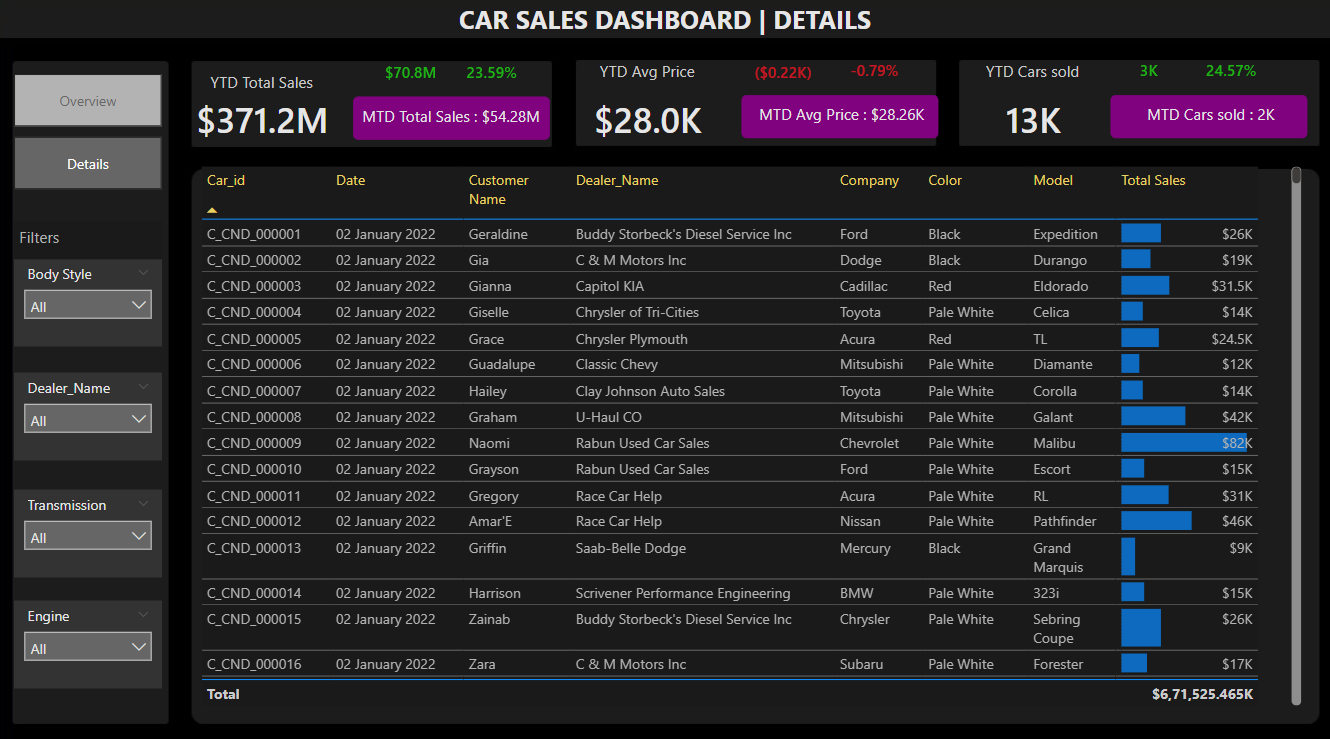

The dashboard page shown, as its layout file describes it:
{"tool":"powerbi","page":{"name":"Details","canvas":[1280,720],"ordinal":1},"visuals":[{"type":"card","title":"YTD Total Sales","fields":{"Values":["Measure Table.YTD Total Sales"]},"box":[179.7,71.6,149.5,73.2],"z":0},{"type":"card","fields":{"Values":["Measure Table.Sales Difference"]},"box":[340.4,52.5,109.8,42.9],"z":1000},{"type":"card","fields":{"Values":["Measure Table.YOY Sales Growth"]},"box":[418.3,52.5,109.8,42.9],"z":2000},{"type":"card","fields":{"Values":["Measure Table.MTD KPI"]},"box":[340.4,95.4,187.7,41.4],"z":3000},{"type":"card","title":"YTD Avg Price","fields":{"Values":["Measure Table.YTD Avg Price"]},"box":[547.2,62,149.5,92.3],"z":4000},{"type":"card","fields":{"Values":["Measure Table.Avg Price Diff"]},"box":[696.7,52.5,109.8,42.9],"z":5000},{"type":"card","fields":{"Values":["Measure Table.YOY Avg Price Growth"]},"box":[784.2,50.9,109.8,42.9],"z":6000},{"type":"card","fields":{"Values":["Measure Table.MTD Avg Price KPI"]},"box":[712.6,93.8,187.7,41.4],"z":7000},{"type":"card","title":"YTD Cars sold","fields":{"Values":["Measure Table.YTD Cars sold"]},"box":[914.6,62,149.5,92.3],"z":8000},{"type":"card","fields":{"Values":["Measure Table.Cars sold Diff"]},"box":[1045,50.9,109.8,42.9],"z":9000},{"type":"card","fields":{"Values":["Measure Table.YOY Cars sold Growth"]},"box":[1124.6,50.9,109.8,42.9],"z":10000},{"type":"card","fields":{"Values":["Measure Table.MTD Cars sold KPI"]},"box":[1064.1,93.8,187.7,41.4],"z":11000},{"type":"textbox","box":[408.8,0,461.3,50.9],"z":12000},{"type":"slicer","fields":{"Values":["car_data.Body Style"]},"box":[17.5,251.3,141.6,84.3],"z":13000},{"type":"slicer","fields":{"Values":["car_data.Dealer_Name"]},"box":[17.5,359.5,141.6,84.3],"z":14000},{"type":"slicer","fields":{"Values":["car_data.Transmission"]},"box":[17.5,470.8,141.6,84.3],"z":15000},{"type":"slicer","fields":{"Values":["car_data.Engine"]},"box":[17.5,577.4,141.6,84.3],"z":16000},{"type":"textbox","box":[17.5,214.7,141.6,36.6],"z":17000},{"type":"tableEx","fields":{"Values":["car_data.Car_id","car_data.Date","car_data.Customer Name","car_data.Dealer_Name","car_data.Company","car_data.Color","car_data.Model","car_data.Price ($)"]},"box":[190.9,157.5,1060.9,524.9],"z":18000},{"type":"pageNavigator","box":[17.5,74.8,141.6,111.3],"z":19000}]}

Visuals, with their boxes in screenshot pixels (x1, y1, x2, y2), scaled from the page's 1280x720 canvas onto the 1330x739 screenshot:
"YTD Total Sales" card: 187 73 342 149
card - Measure Table.Sales Difference: 354 54 468 98
card - Measure Table.YOY Sales Growth: 435 54 549 98
card - Measure Table.MTD KPI: 354 98 549 140
"YTD Avg Price" card: 569 64 724 158
card - Measure Table.Avg Price Diff: 724 54 838 98
card - Measure Table.YOY Avg Price Growth: 815 52 929 96
card - Measure Table.MTD Avg Price KPI: 740 96 935 139
"YTD Cars sold" card: 950 64 1106 158
card - Measure Table.Cars sold Diff: 1086 52 1200 96
card - Measure Table.YOY Cars sold Growth: 1169 52 1283 96
card - Measure Table.MTD Cars sold KPI: 1106 96 1301 139
textbox: 425 0 904 52
slicer - car_data.Body Style: 18 258 165 344
slicer - car_data.Dealer_Name: 18 369 165 456
slicer - car_data.Transmission: 18 483 165 570
slicer - car_data.Engine: 18 593 165 679
textbox: 18 220 165 258
tableEx - car_data.Car_id x car_data.Date: 198 162 1301 700
pageNavigator: 18 77 165 191
